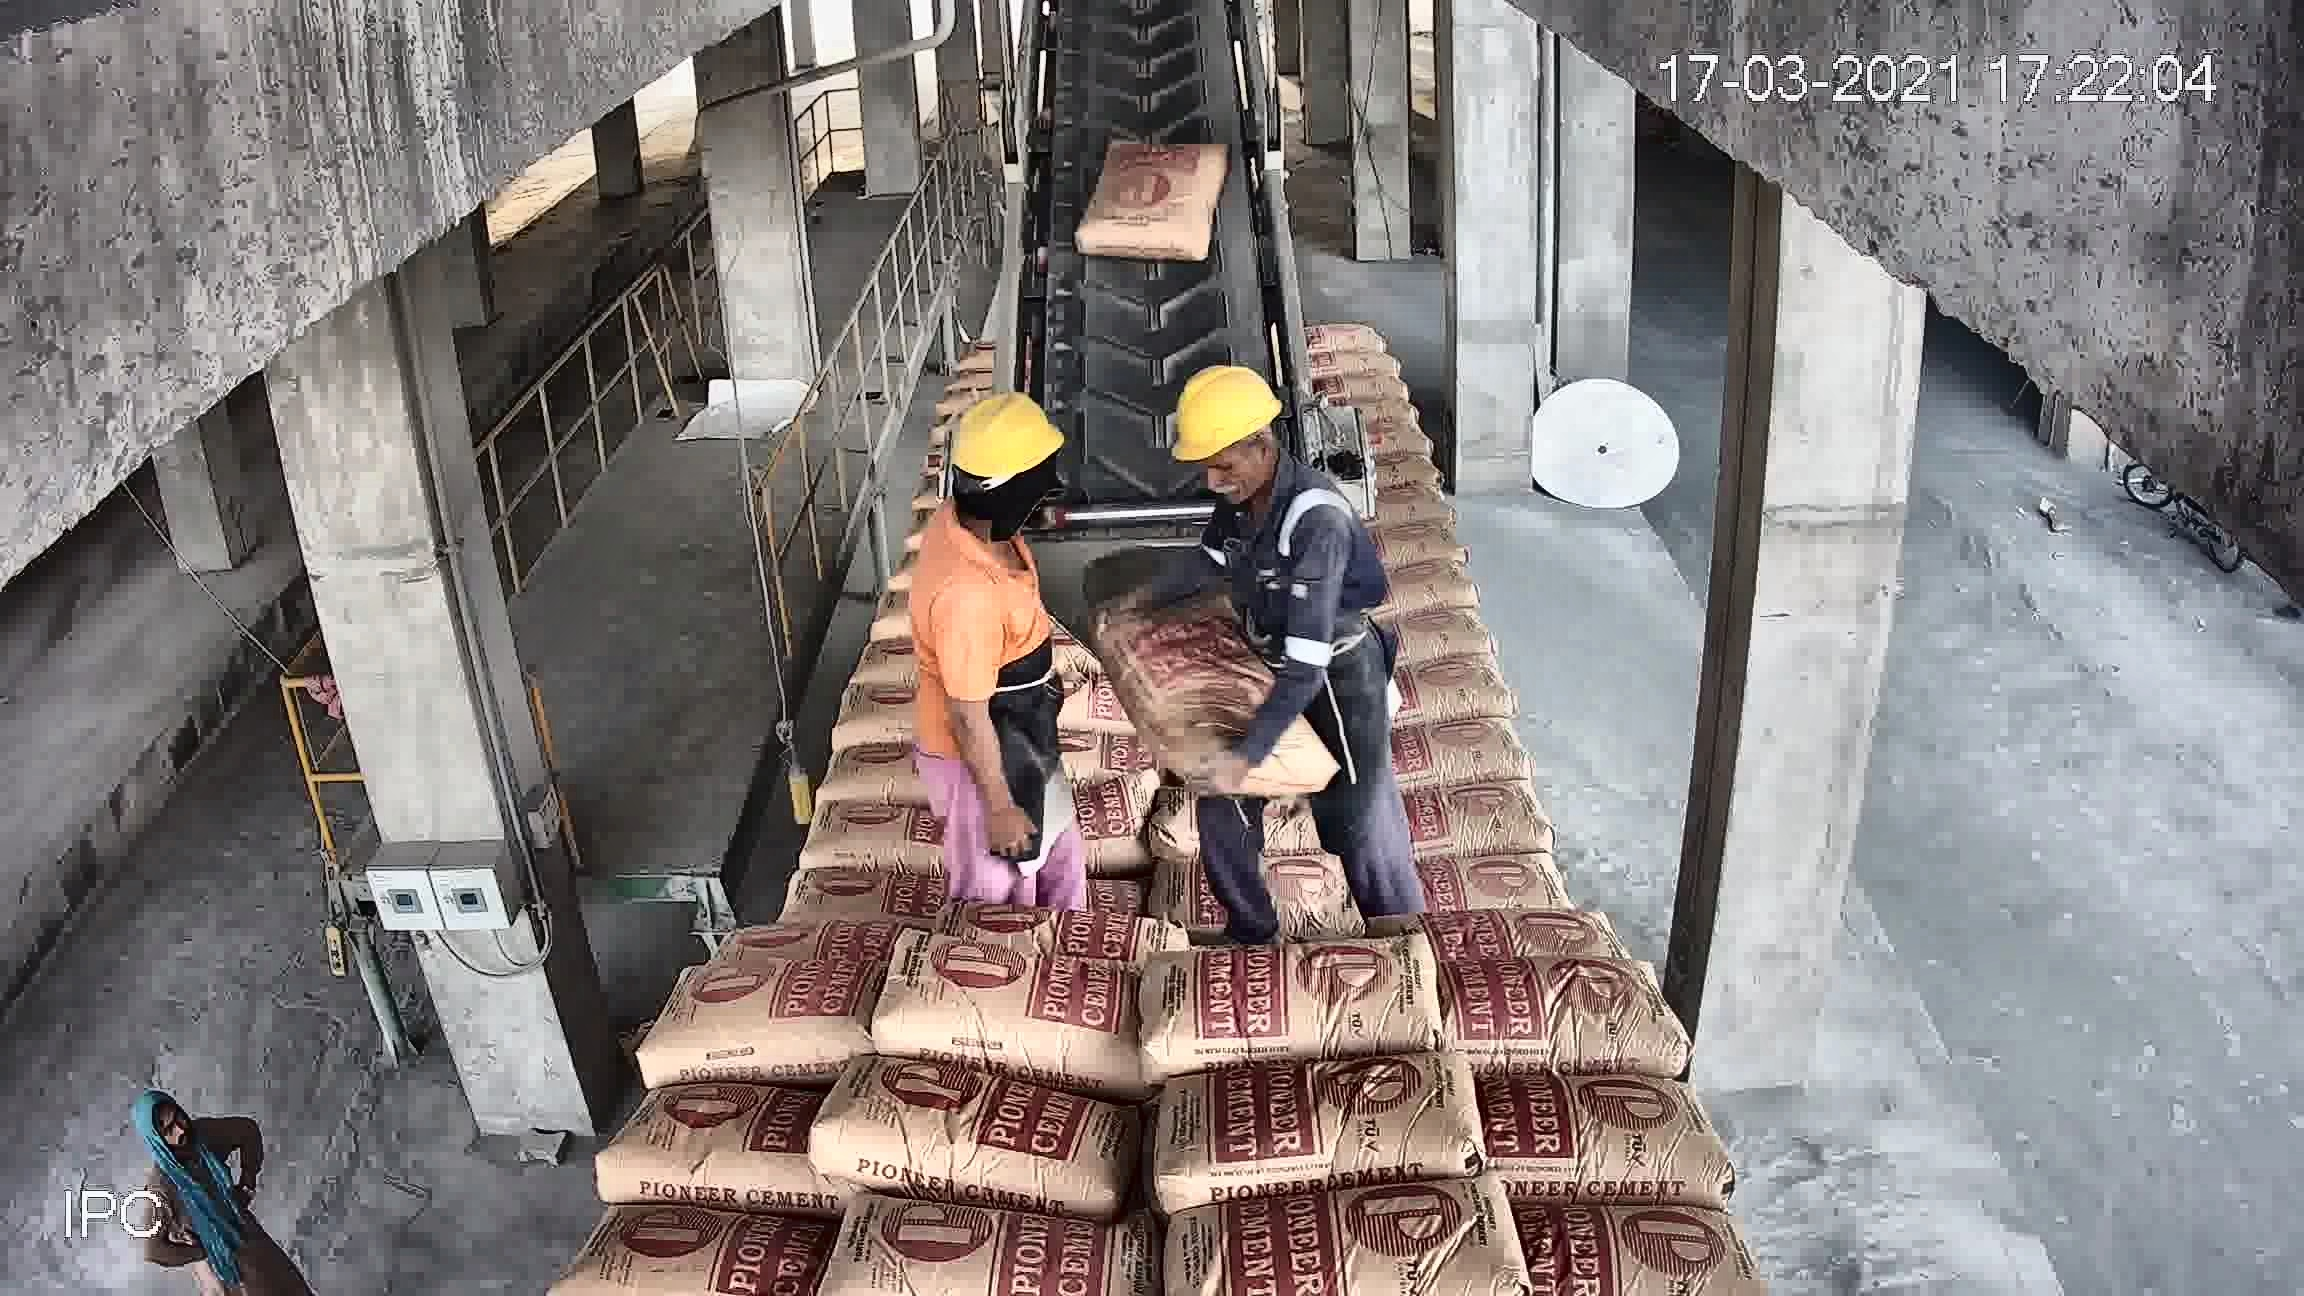bag: (970, 533, 1177, 668)
bag_h: (1128, 1032, 1483, 1206), (1160, 1157, 1529, 1296), (1146, 919, 1457, 1068), (1135, 821, 1431, 954), (1407, 945, 1698, 1079), (609, 942, 873, 1081), (821, 1076, 1120, 1185), (567, 1087, 813, 1215), (813, 1199, 1139, 1296), (1510, 1179, 1756, 1296), (1138, 729, 1394, 840), (1419, 842, 1658, 959), (557, 1204, 866, 1294), (885, 953, 1139, 1060), (889, 741, 1125, 856), (1462, 1086, 1742, 1180), (896, 850, 1135, 935), (1404, 756, 1590, 850), (690, 866, 878, 954), (722, 775, 894, 862), (764, 734, 915, 788), (1396, 652, 1499, 711), (1397, 731, 1537, 772), (869, 582, 965, 638), (855, 620, 942, 680), (839, 677, 930, 731), (1385, 601, 1483, 639)
belt: (1002, 28, 1290, 446)
